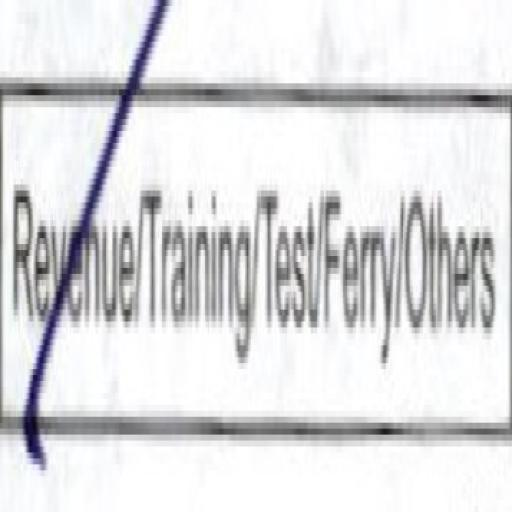check: (0, 40, 135, 499)
